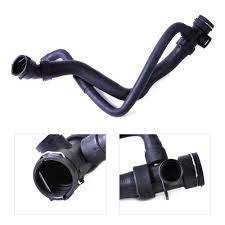radiator_hose: (17, 15, 212, 116)
